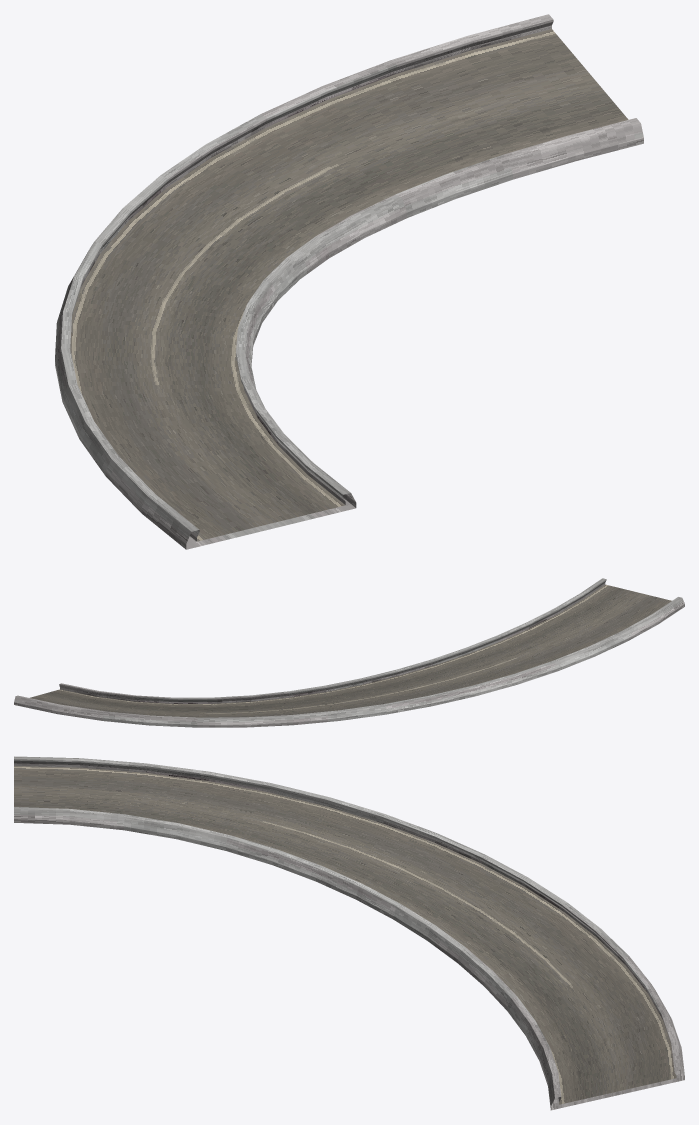
The model's file is road-Turn-Flat-HalfBankedRight-Down2-Right-Size5.glb.
The picture shows the model from 3 angles, top to bottom: view 1: azimuth 30°, elevation 25°; view 2: azimuth 150°, elevation 25°; view 3: azimuth 270°, elevation 25°; orthographic projection. The views are drawn at different scales.
Parts seen in each view (by area): view 1: road-Turn-Flat-HalfBankedRight-Down2-Right-Size5; view 2: road-Turn-Flat-HalfBankedRight-Down2-Right-Size5; view 3: road-Turn-Flat-HalfBankedRight-Down2-Right-Size5.
Boxes of the visible parts, box(x1,y1,x2,y2) form: road-Turn-Flat-HalfBankedRight-Down2-Right-Size5: box(55, 14, 643, 549); road-Turn-Flat-HalfBankedRight-Down2-Right-Size5: box(14, 578, 684, 727); road-Turn-Flat-HalfBankedRight-Down2-Right-Size5: box(14, 756, 684, 1110).
Size of the model in its own units: 5 by 0.5938 by 5.
Materials: 2 (2 with a texture image).
